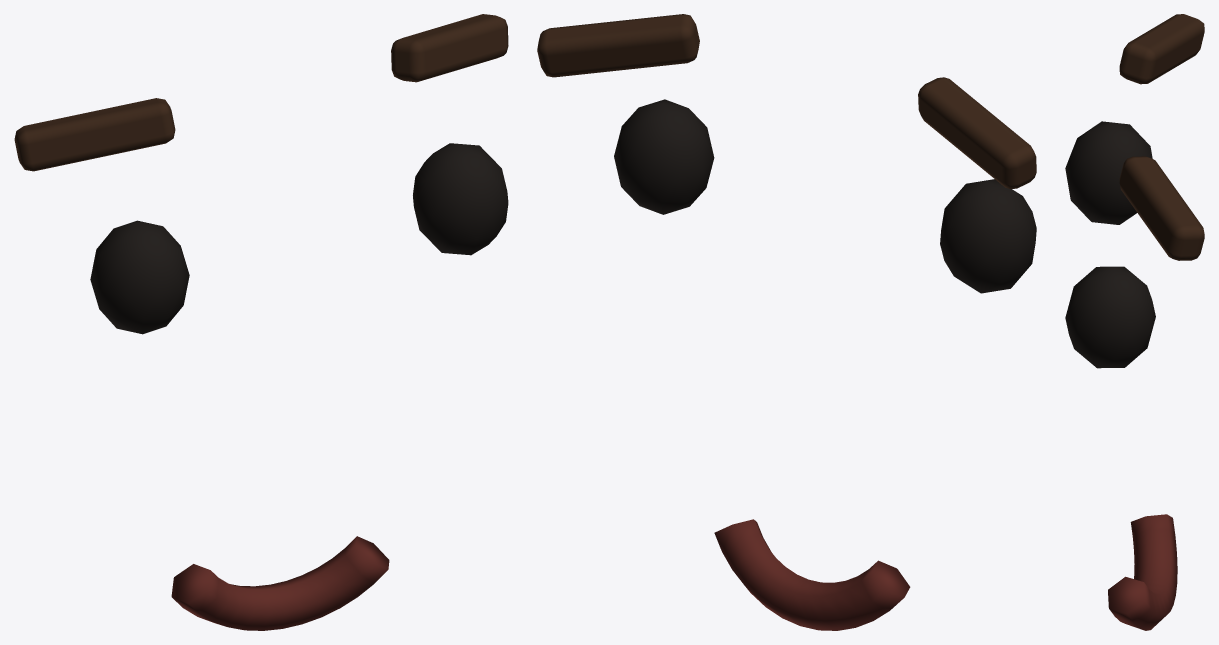
The model's file is 01-classic.glb.
The picture shows the model from 3 angles, left to right: view 1: azimuth 30°, elevation 25°; view 2: azimuth 150°, elevation 25°; view 3: azimuth 270°, elevation 25°; orthographic projection. The views are drawn at different scales.
Visible parts, largest first — view 1: Face01_Mouth, Face01_Eye-1, Face01_Eye1, Face01_Brow-1, Face01_Brow1; view 2: Face01_Mouth, Face01_Eye1, Face01_Eye-1, Face01_Brow1, Face01_Brow-1; view 3: Face01_Eye1, Face01_Eye-1, Face01_Mouth, Face01_Brow1, Face01_Brow-1.
Boxes of the visible parts, bbox=[...] form: Face01_Mouth: bbox=[171, 536, 389, 630]; Face01_Eye-1: bbox=[90, 220, 189, 334]; Face01_Eye1: bbox=[413, 143, 508, 255]; Face01_Brow-1: bbox=[14, 98, 175, 171]; Face01_Brow1: bbox=[391, 14, 508, 82]; Face01_Mouth: bbox=[714, 519, 910, 630]; Face01_Eye1: bbox=[614, 99, 714, 214]; Face01_Eye-1: bbox=[940, 179, 1036, 293]; Face01_Brow1: bbox=[537, 14, 699, 77]; Face01_Brow-1: bbox=[918, 77, 1036, 189]; Face01_Eye1: bbox=[1065, 266, 1155, 368]; Face01_Eye-1: bbox=[1065, 121, 1152, 224]; Face01_Mouth: bbox=[1108, 514, 1177, 630]; Face01_Brow1: bbox=[1119, 156, 1204, 260]; Face01_Brow-1: bbox=[1119, 14, 1204, 84].
Size of the model in its own units: 0.2828 by 0.3119 by 0.076.
